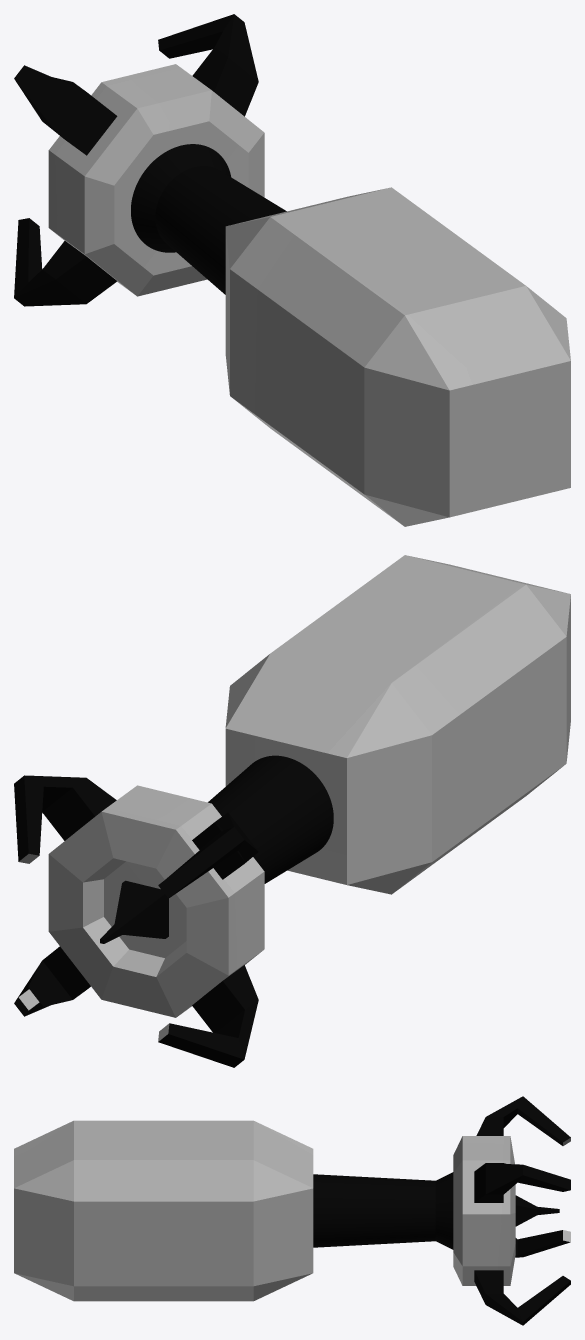
Rendered from TerrainTool.fbx.
3 views of the same model, one above another, from view 1: azimuth 30°, elevation 25°; view 2: azimuth 150°, elevation 25°; view 3: azimuth 270°, elevation 25° (orthographic). The views are drawn at different scales.
Parts seen in each view (by area): view 1: Cube, Cylinder.001, Cube.001, Cylinder; view 2: Cube, Cylinder.001, Cube.001, Cylinder; view 3: Cube, Cylinder, Cube.001, Cylinder.001.
Part boxes in pixels (bbox=[...]): Cube: bbox=[225, 187, 570, 526]; Cylinder.001: bbox=[48, 64, 264, 296]; Cube.001: bbox=[14, 14, 258, 306]; Cylinder: bbox=[131, 144, 286, 294]; Cube: bbox=[225, 555, 570, 894]; Cylinder.001: bbox=[48, 785, 264, 1017]; Cube.001: bbox=[14, 775, 258, 1067]; Cylinder: bbox=[208, 755, 333, 883]; Cube: bbox=[14, 1120, 313, 1301]; Cylinder: bbox=[313, 1172, 453, 1249]; Cube.001: bbox=[474, 1096, 570, 1325]; Cylinder.001: bbox=[453, 1136, 515, 1285].
Bounding box in the file's own units: 228 × 228 × 714.
Materials: 1 (1 with a texture image).
